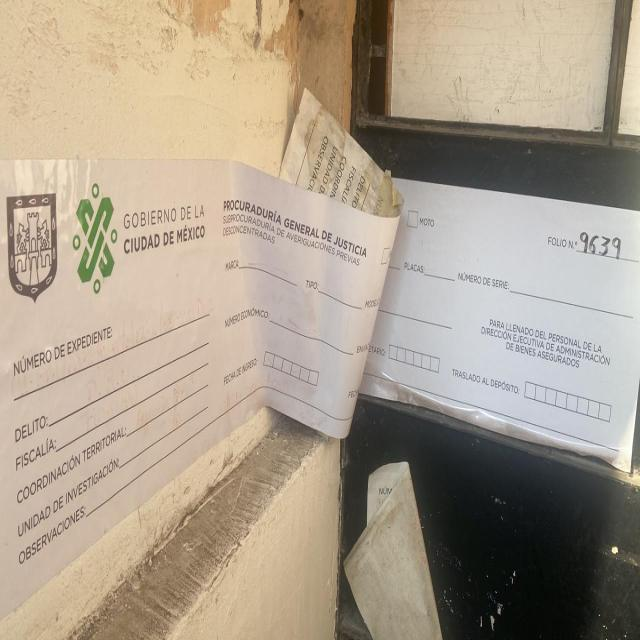stamps: (1, 156, 398, 622)
